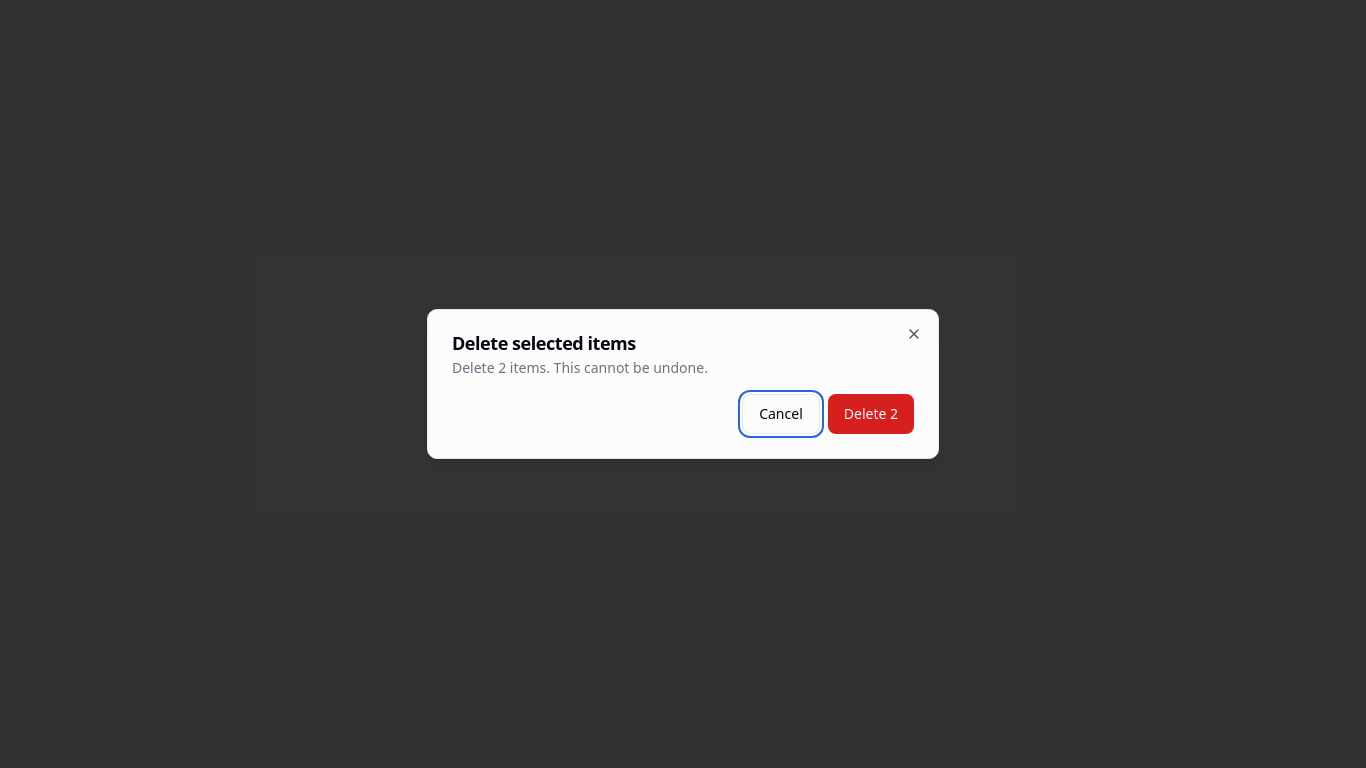
Scenario: sends one reviewed request and keeps a failed commit visible
The width and height of the screenshot is (1366, 768).
Later steps or results of the test are not shown.
Press Escape
Click the button "Delete 2" at (871,414), box [828, 394, 914, 434]
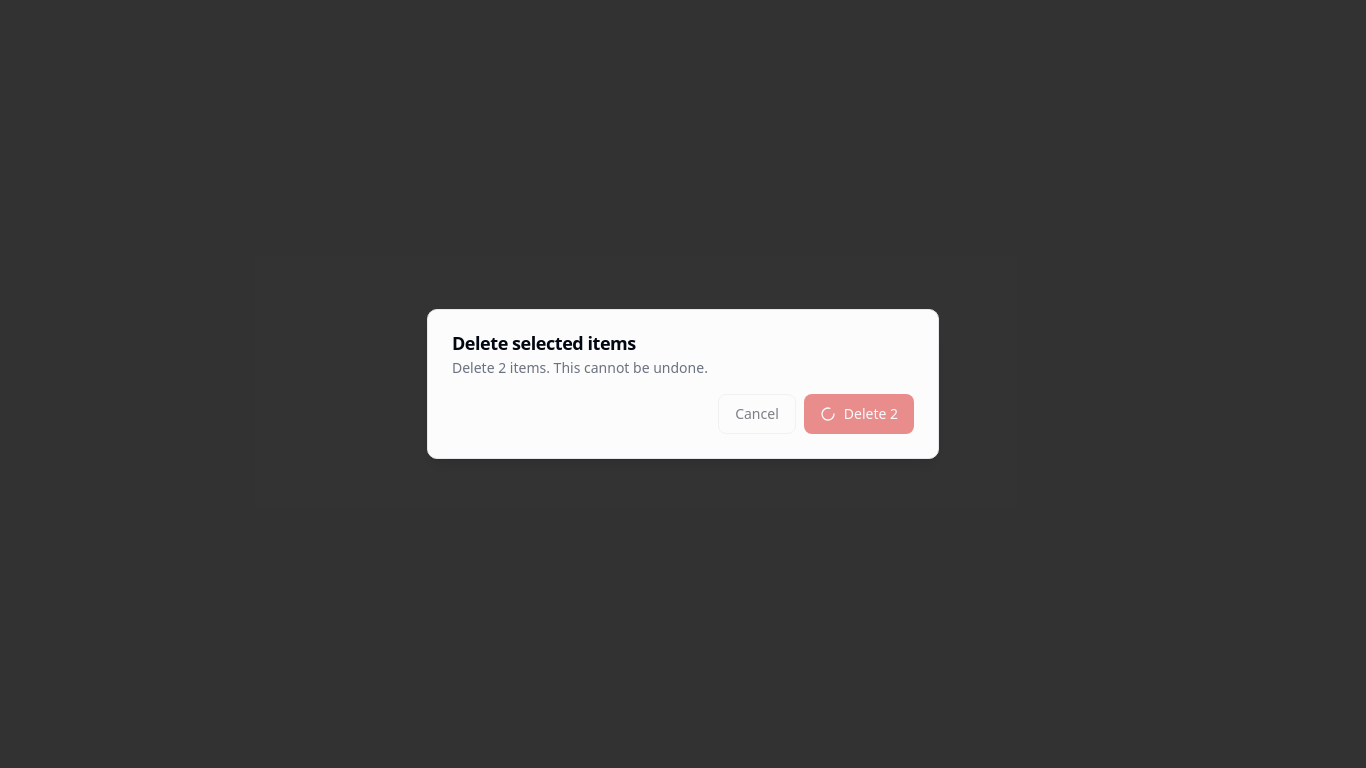
Press Escape
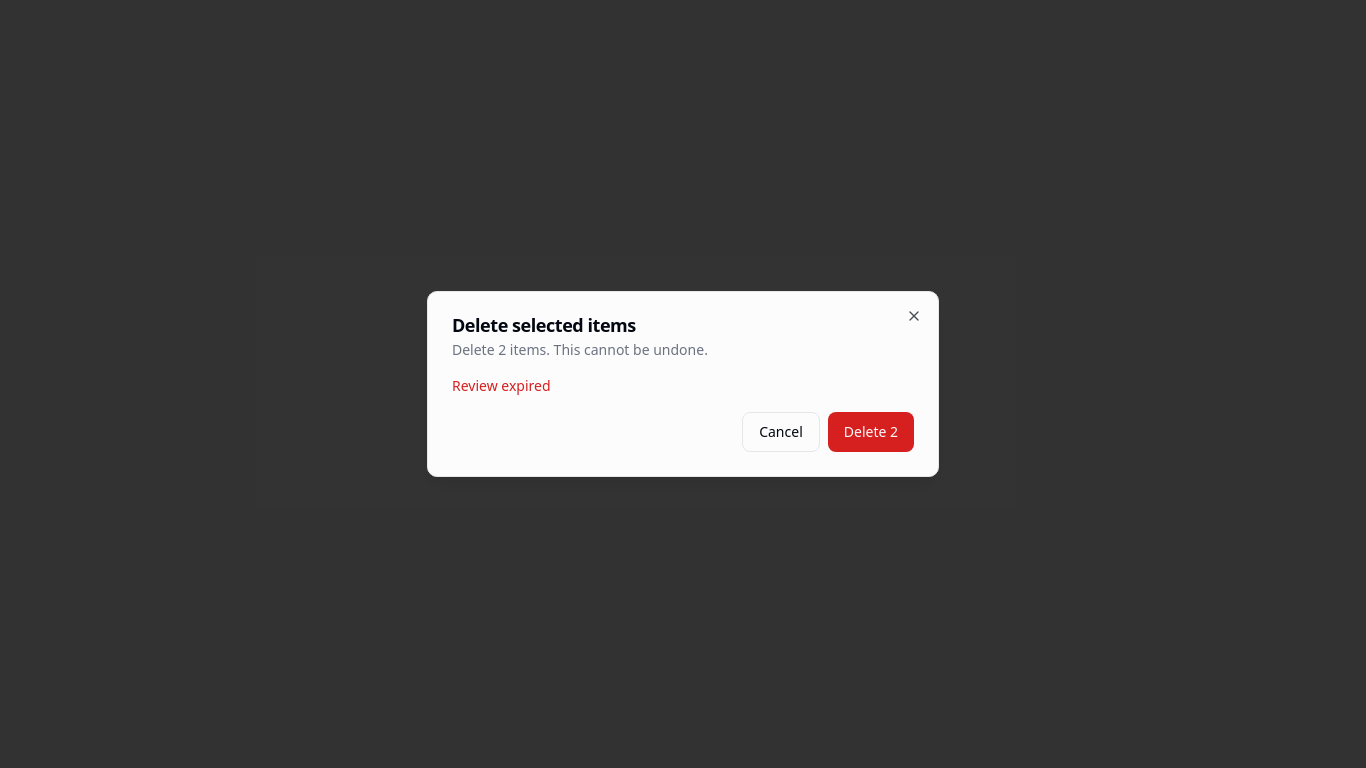
Expected: the message reads "Review expired", [452, 376, 551, 395]
Expected: the button "Delete 2" is enabled, [828, 412, 914, 452]
